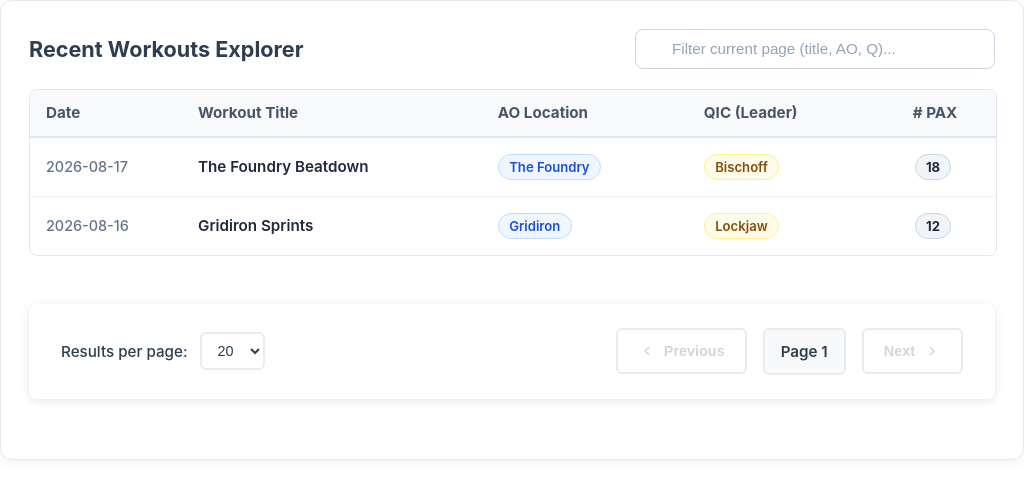
it: BigDataWorkouts Explorer Component › filters workouts by query text on the current page
Expected: the link "The Foundry Beatdown" is shown, [198, 158, 368, 176]
Type "Gridiron" into the field with placeholder "Filter current page (title, AO, Q)..." at (815, 49), box [635, 29, 995, 69]
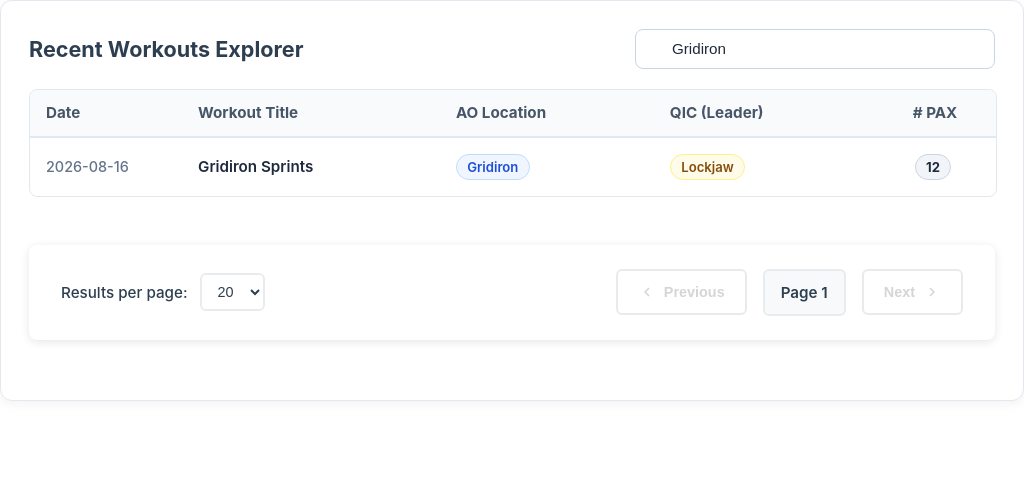
Expected: the link "Gridiron Sprints" is shown, [198, 158, 313, 176]
Expected: the link "The Foundry Beatdown" is gone
